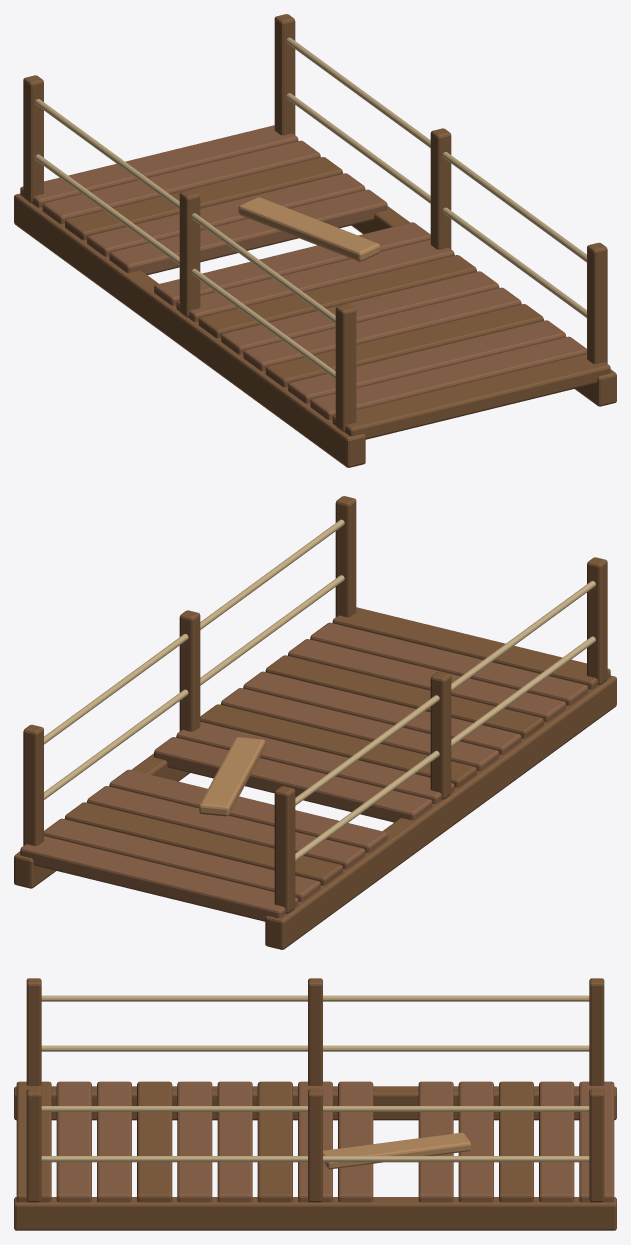
The model's file is quarry_bridge.glb.
3 renders of one model, top to bottom at view 1: azimuth 30°, elevation 25°; view 2: azimuth 150°, elevation 25°; view 3: azimuth 270°, elevation 25°, orthographic. The views are drawn at different scales.
Visible parts, largest first — view 1: Beam, DeckPlank.001, RopeRail, RepairPlank; view 2: DeckPlank.001, Beam, RopeRail, RepairPlank; view 3: Beam, DeckPlank.001, RopeRail, RepairPlank.
Part boxes in pixels (x1=…): Beam: x1=14, y1=14, x2=616, y2=467; DeckPlank.001: x1=20, y1=125, x2=586, y2=419; RopeRail: x1=35, y1=37, x2=586, y2=379; RepairPlank: x1=238, y1=197, x2=380, y2=261; DeckPlank.001: x1=20, y1=622, x2=588, y2=921; Beam: x1=14, y1=496, x2=616, y2=949; RopeRail: x1=44, y1=519, x2=595, y2=861; RepairPlank: x1=199, y1=737, x2=265, y2=816; Beam: x1=14, y1=978, x2=616, y2=1230; DeckPlank.001: x1=56, y1=1081, x2=614, y2=1202; RopeRail: x1=41, y1=995, x2=589, y2=1162; RepairPlank: x1=323, y1=1132, x2=471, y2=1169.
Size of the model in its own units: 2.8 by 1.5 by 6.
